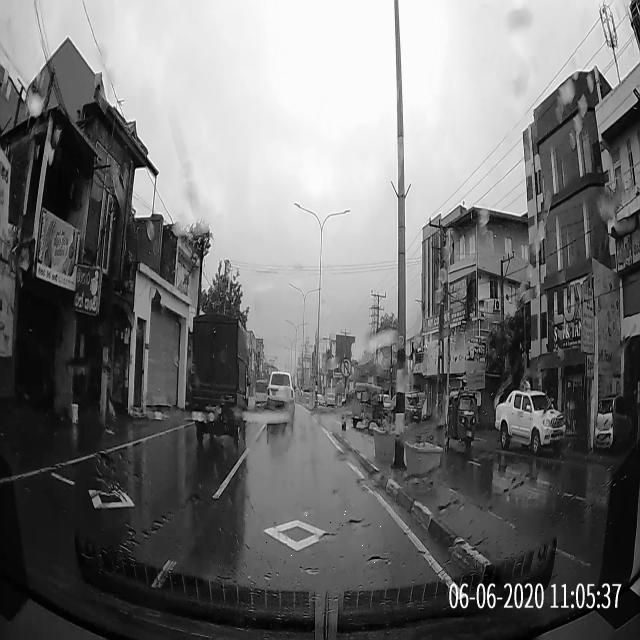diamond: (210, 506, 430, 563)
